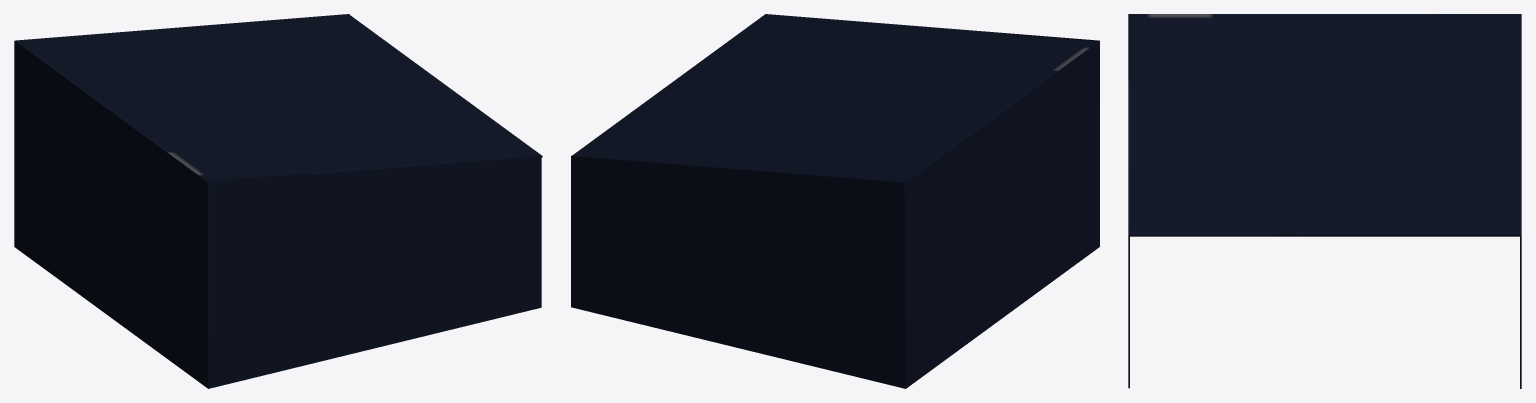
Rendered from newstage.dae.
3 views of the same model, side by side, from view 1: azimuth 30°, elevation 25°; view 2: azimuth 150°, elevation 25°; view 3: azimuth 270°, elevation 25° (orthographic).
Visible parts, largest first — view 1: Plane; view 2: Plane; view 3: Plane.
Part boxes in pixels (left/top/right/bottom): Plane: left=14, top=14, right=542, bottom=388; Plane: left=571, top=14, right=1099, bottom=388; Plane: left=1128, top=14, right=1521, bottom=388.
Bounding box in the file's own units: 0.7391 × 0.7421 × 0.4354.
Materials: 1 (1 with a texture image).
